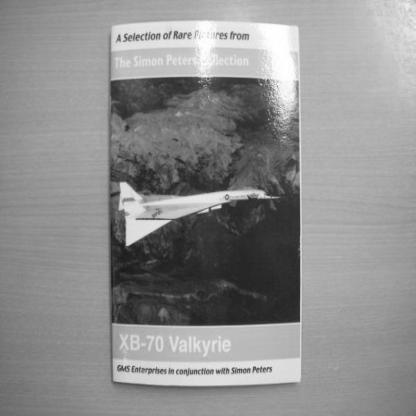XB70: (118, 181, 283, 248)
